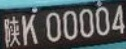K: (22, 15, 38, 45)
